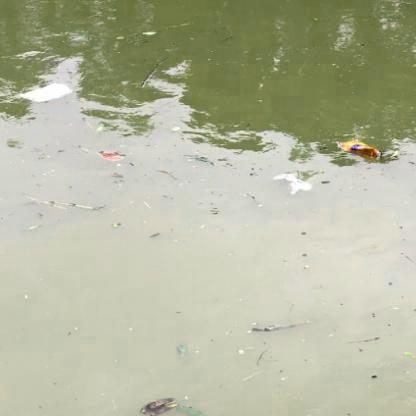Metal: (336, 137, 384, 164)
Trash: (19, 80, 70, 106)
